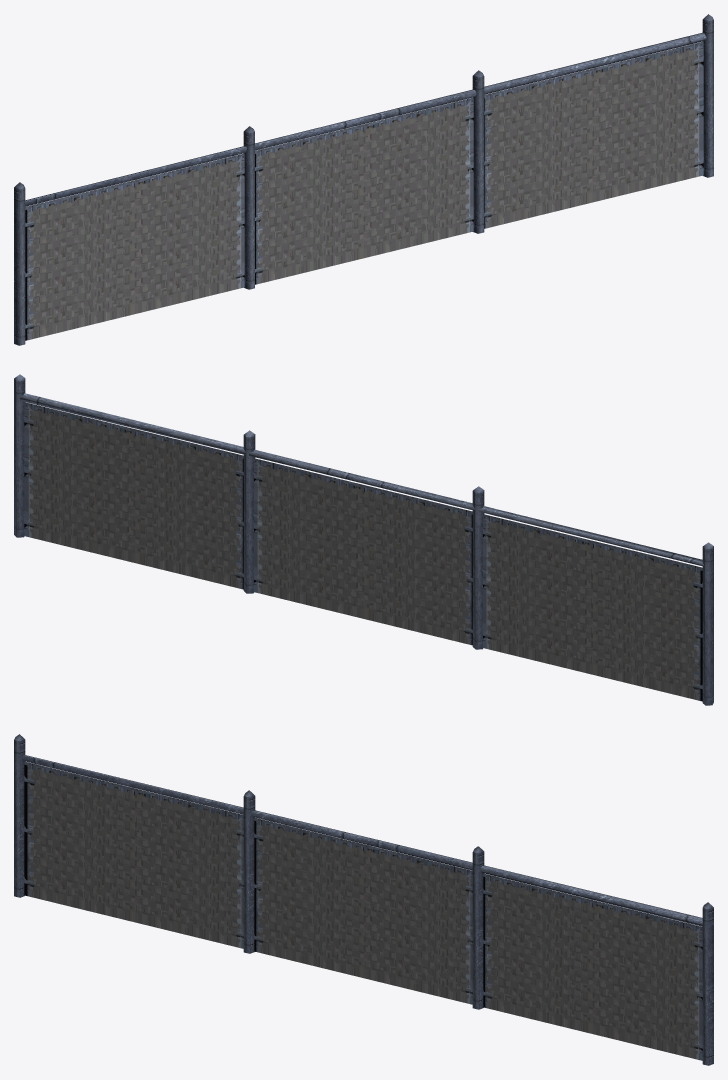
Rendered from OPFC04.glb.
The picture shows the model from 3 angles, top to bottom: view 1: azimuth 30°, elevation 25°; view 2: azimuth 150°, elevation 25°; view 3: azimuth 330°, elevation 25°; orthographic projection.
Visible parts, largest first — view 1: _OPFC04; view 2: _OPFC04; view 3: _OPFC04.
Part boxes in pixels (x1,y1,x2,y2): _OPFC04: (14, 14, 713, 345); _OPFC04: (14, 374, 713, 705); _OPFC04: (14, 734, 713, 1065).
Size of the model in its own units: 5.35 by 1.18 by 0.0723.
Materials: 2 (2 with a texture image).
